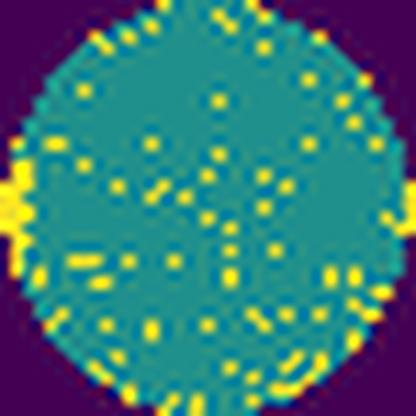Edge-Loc: (0, 155, 36, 279), (376, 182, 415, 244)
